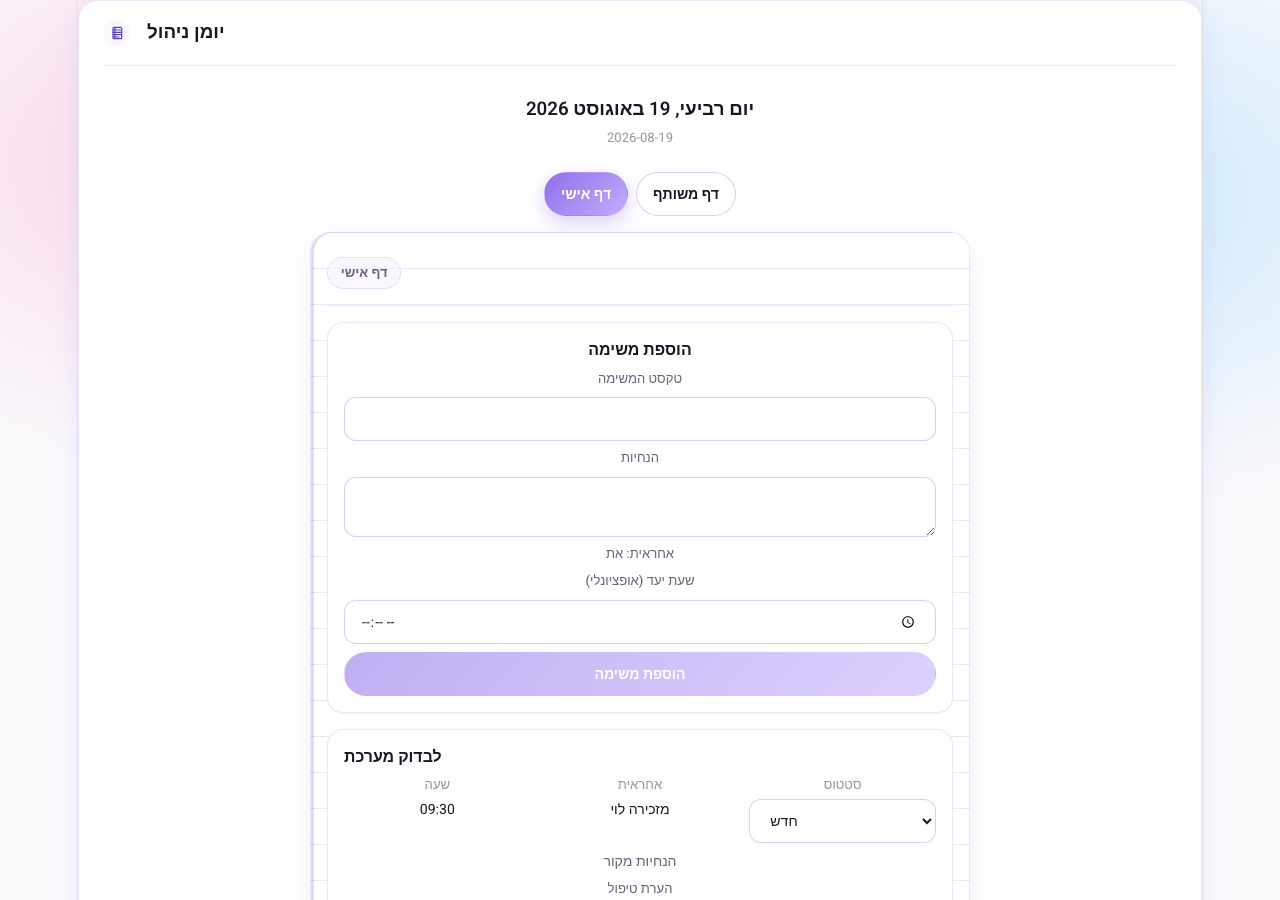
Test: ManagementJournalSection J2B task workflow › refreshes on stale status without sending an overwrite
The image size is (1280, 900).
Select "הושלם" in the dropdown named "סטטוס משימה": {"x": 843, "y": 821} 749,799 -> 936,843
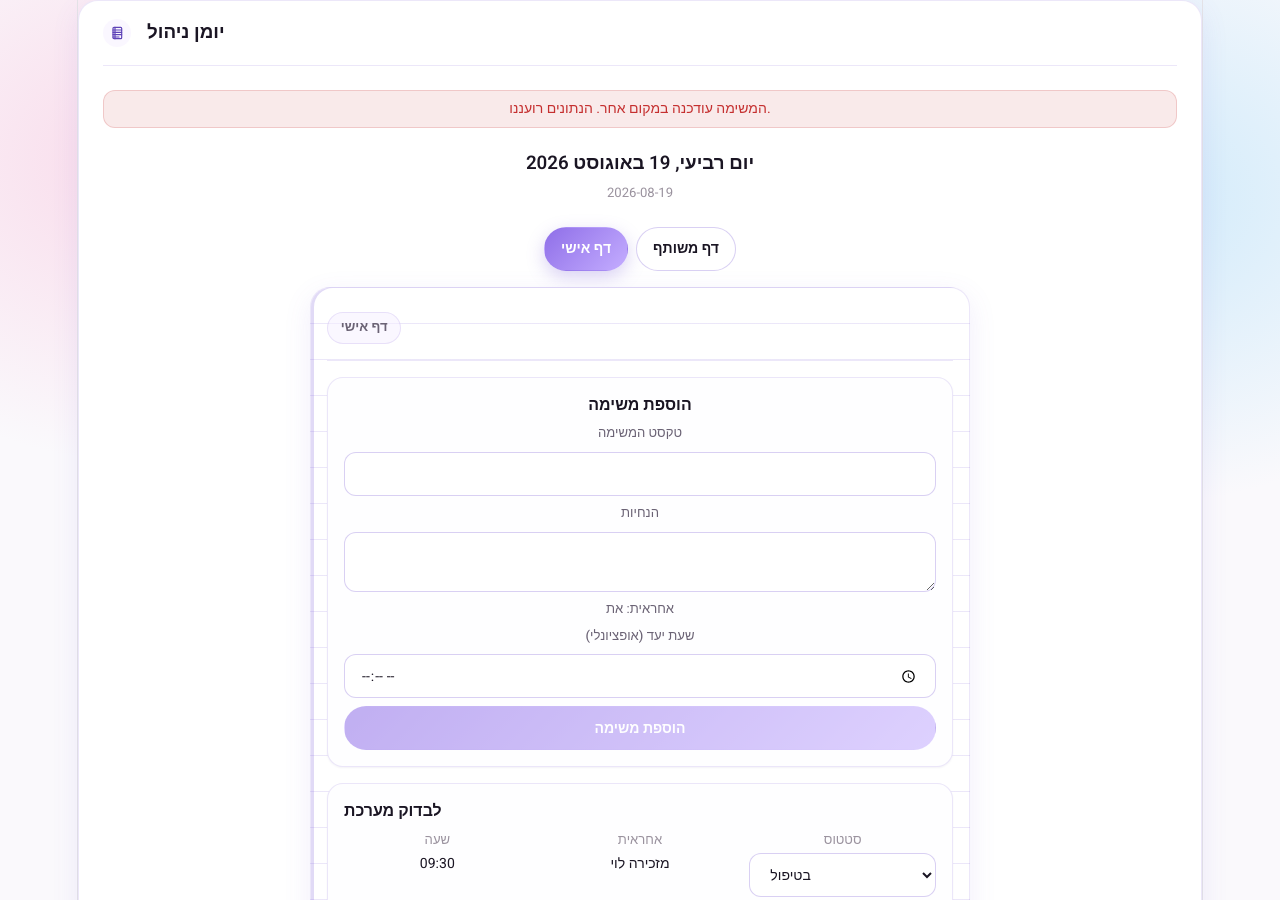
Result: the message reads "המשימה עודכנה במקום אחר. הנתונים רועננו." at 509,98 -> 771,119
